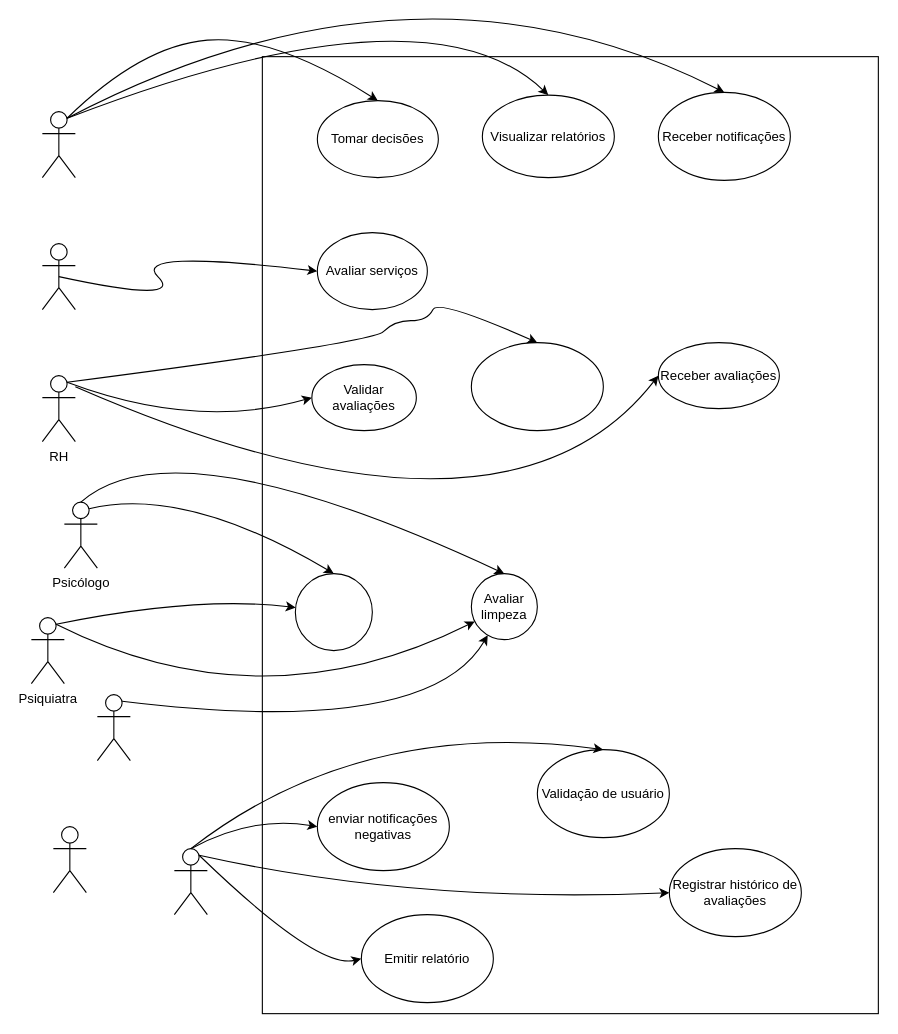
The diagram is 898 pixels wide and 1034 high, and some of its shapes have lost their labels. Here are the shapes that lost their labels. From the top down, the box of each, then its label:
(41, 111, 75, 178): Diretora
(41, 243, 75, 310): Cliente
(470, 342, 603, 431): Enviar relatórios a Diretora
(294, 573, 372, 651): Avaliar Secretária
(96, 694, 130, 761): Secretária
(52, 826, 86, 893): Limpeza
(173, 848, 207, 915): Sistema
